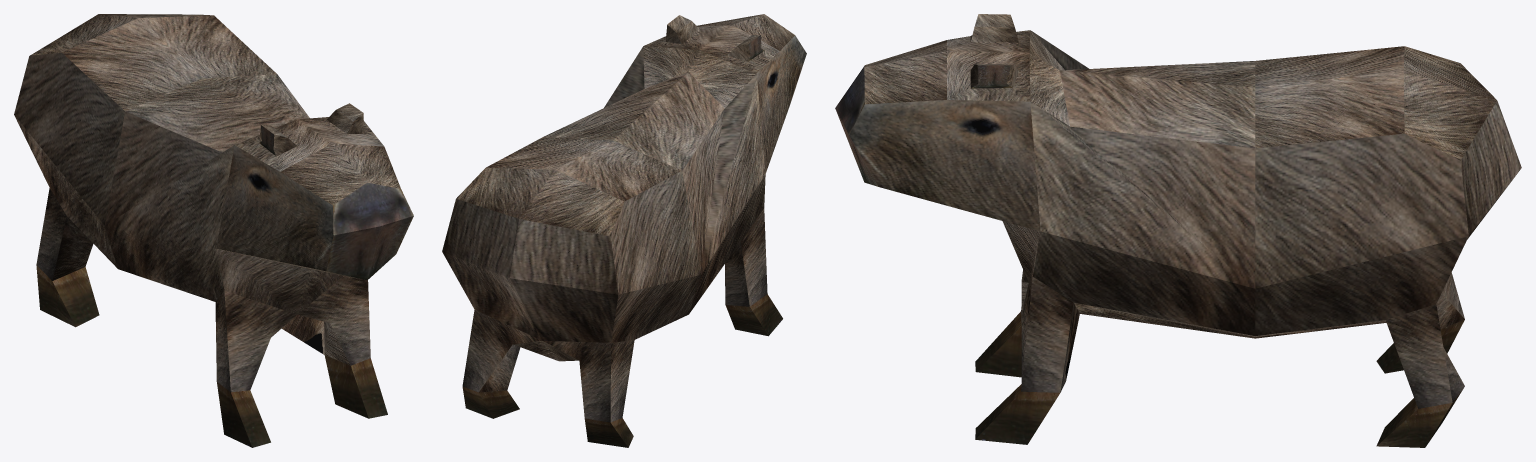
File: capybara.fbx
The picture shows the model from 3 angles, left to right: view 1: azimuth 30°, elevation 25°; view 2: azimuth 150°, elevation 25°; view 3: azimuth 270°, elevation 25°; orthographic projection. The views are drawn at different scales.
Visible parts, largest first — view 1: capybara_Cube.001; view 2: capybara_Cube.001; view 3: capybara_Cube.001.
Part boxes in pixels (x1,y1,x2,y2): capybara_Cube.001: [14, 14, 413, 447]; capybara_Cube.001: [442, 14, 806, 447]; capybara_Cube.001: [835, 14, 1521, 447].
Bounding box in the file's own units: 168 × 257 × 440.
2 materials, 2 textured.
